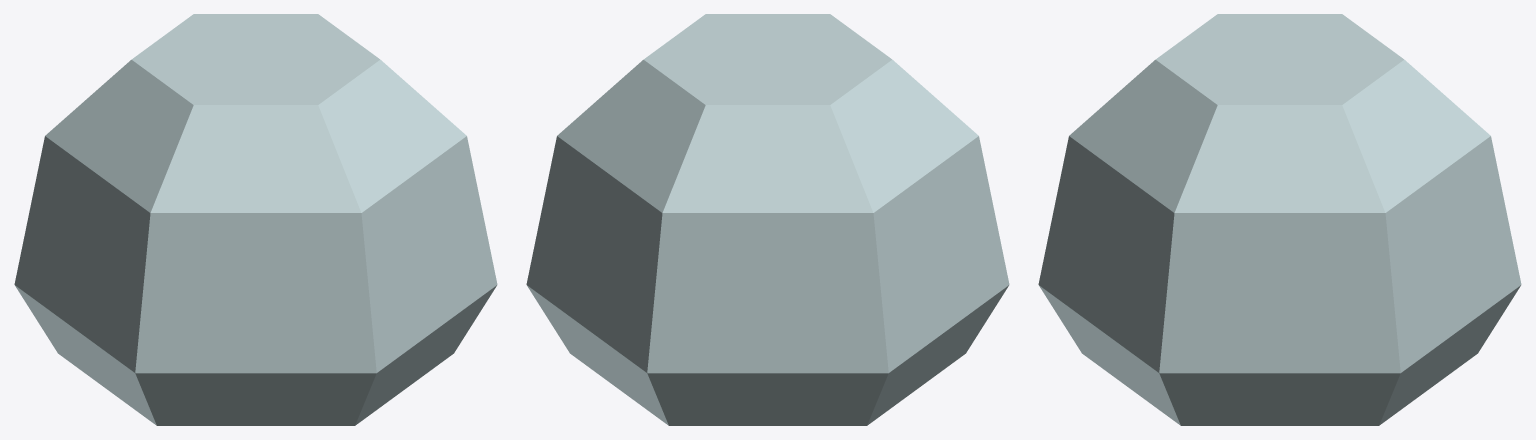
The model's file is stone_smallI.gltf.
The picture shows the model from 3 angles, left to right: view 1: azimuth 30°, elevation 25°; view 2: azimuth 150°, elevation 25°; view 3: azimuth 270°, elevation 25°; orthographic projection.
Visible parts, largest first — view 1: stone_smallI; view 2: stone_smallI; view 3: stone_smallI.
Boxes of the visible parts, x1,y1,x2,y2 form: stone_smallI: [14, 14, 497, 425]; stone_smallI: [526, 14, 1009, 425]; stone_smallI: [1038, 14, 1521, 425].
Size of the model in its own units: 0.3583 by 0.2778 by 0.4138.
